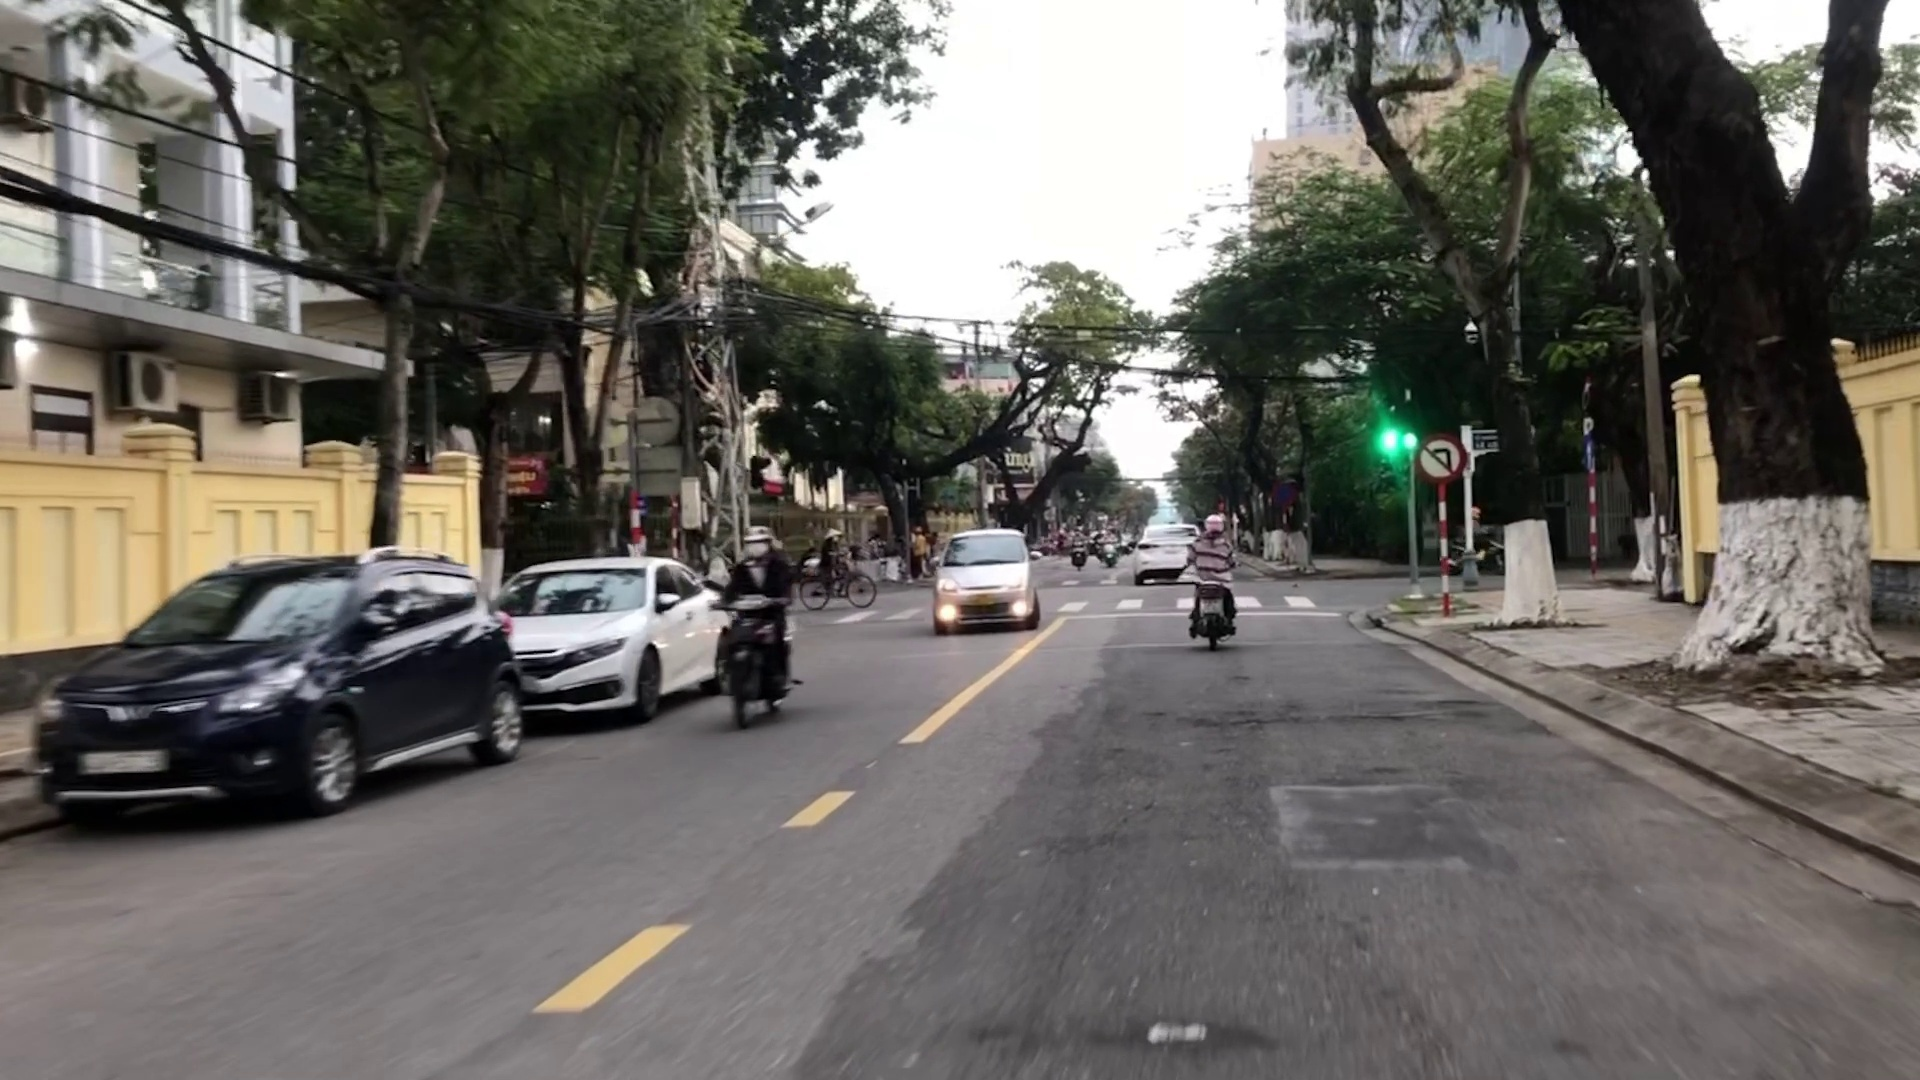Bien khac: (1414, 439, 1464, 481)
